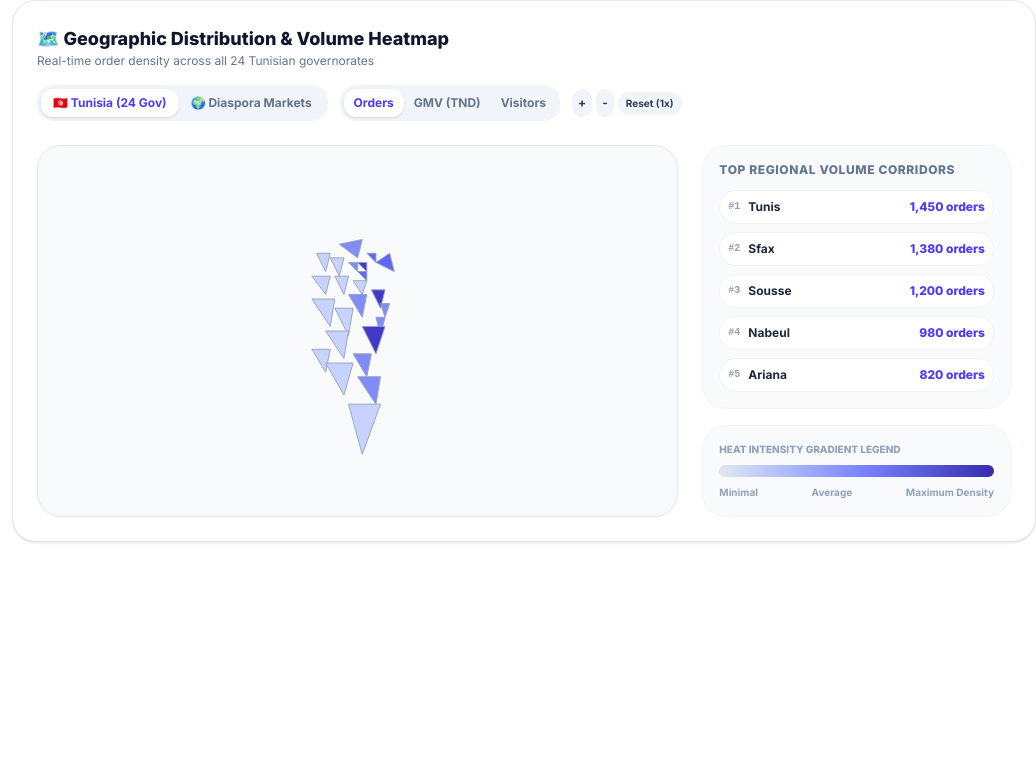
Scenario: Feature 2: Tunisia 24-Governorates & Diaspora Choropleth Heatmap (R1) › Tier 1: Core Functional Verification › T1.7: adjusts zoom level (+, -, Reset) without crashing
The width and height of the screenshot is (1036, 768).
Step 1. Click the button named "Zoom in" → (582, 103), box [572,89,592,117]
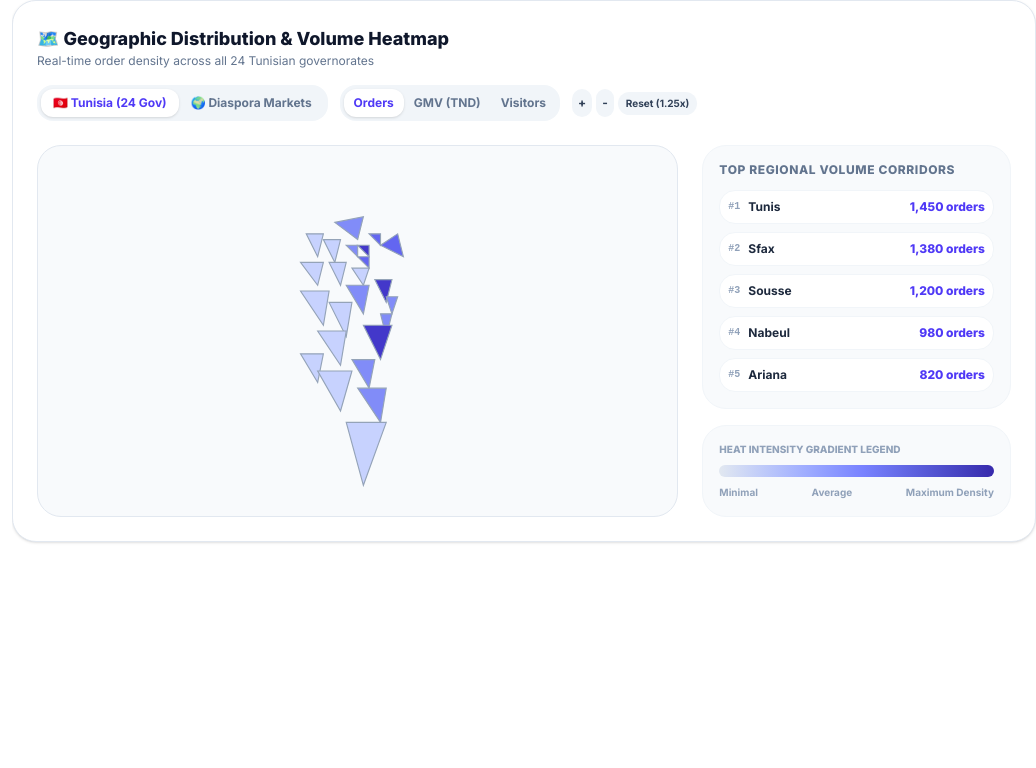
Now the button "Reset (1.25x)" is shown, box [618,92,697,114]
Step 2. Click the button named "Zoom out" → (605, 103), box [596,89,614,117]
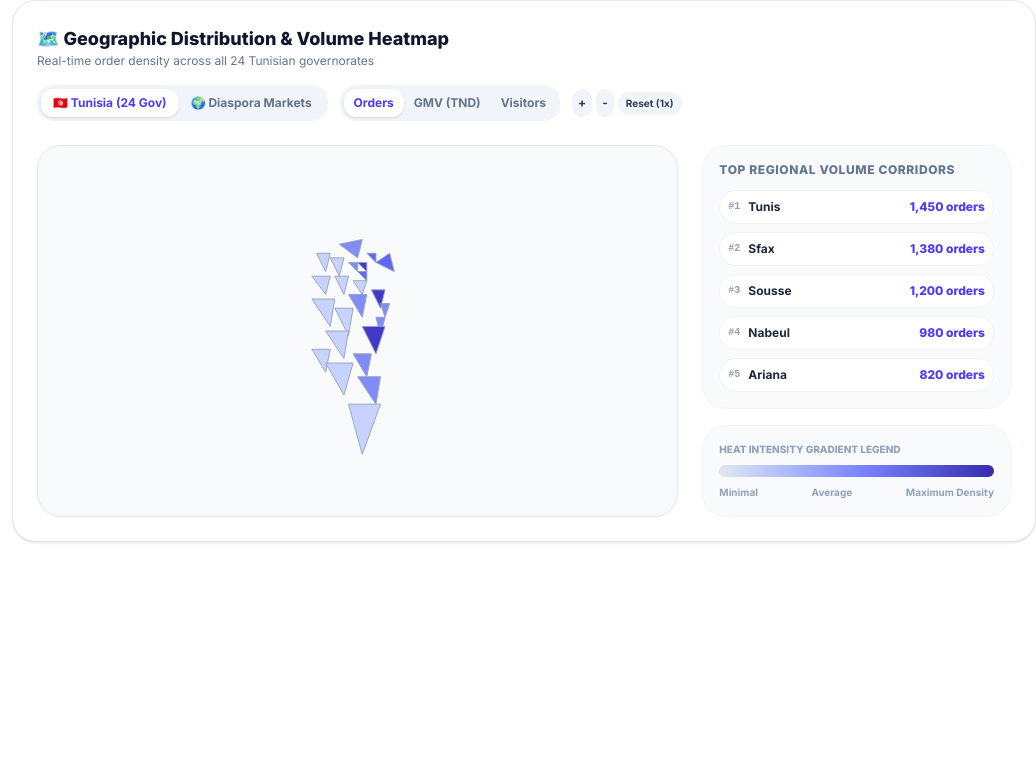
Now the button "Reset (1x)" is shown, box [618,92,682,114]
Step 3. Click the button named "Zoom in" → (582, 103), box [572,89,592,117]
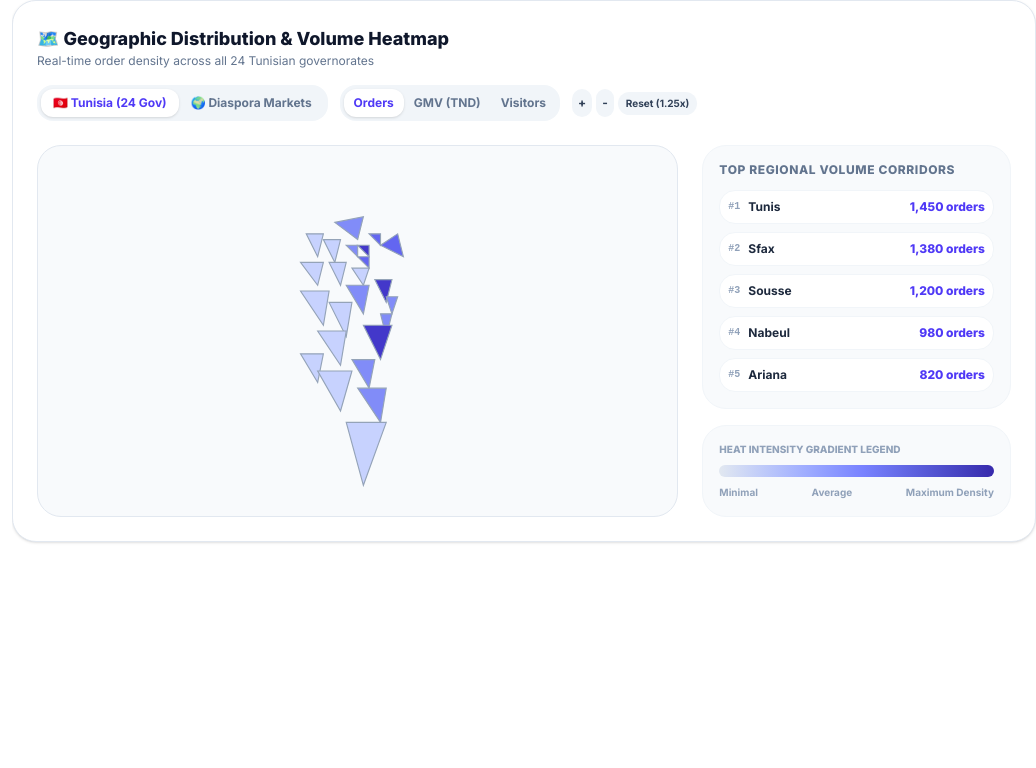
Step 4. Click the button named "Zoom in" → (582, 103), box [572,89,592,117]
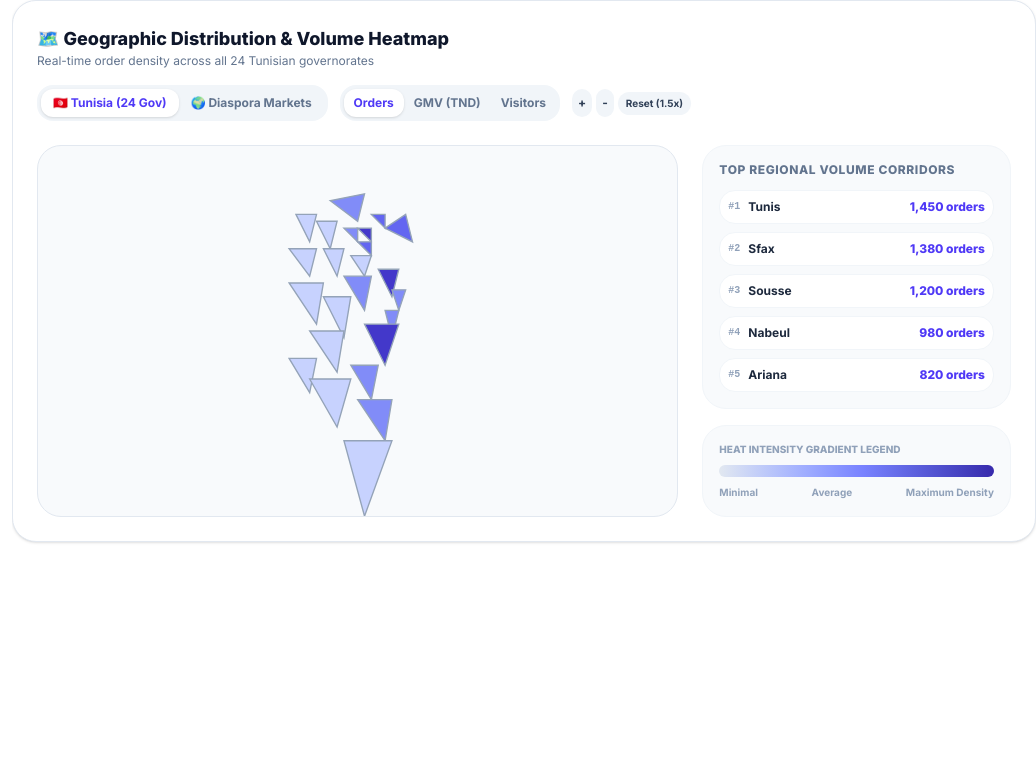
Now the button "Reset (1.5x)" is shown
Step 5. Click the button "Reset (1.5x)" → (654, 103), box [618,92,691,114]
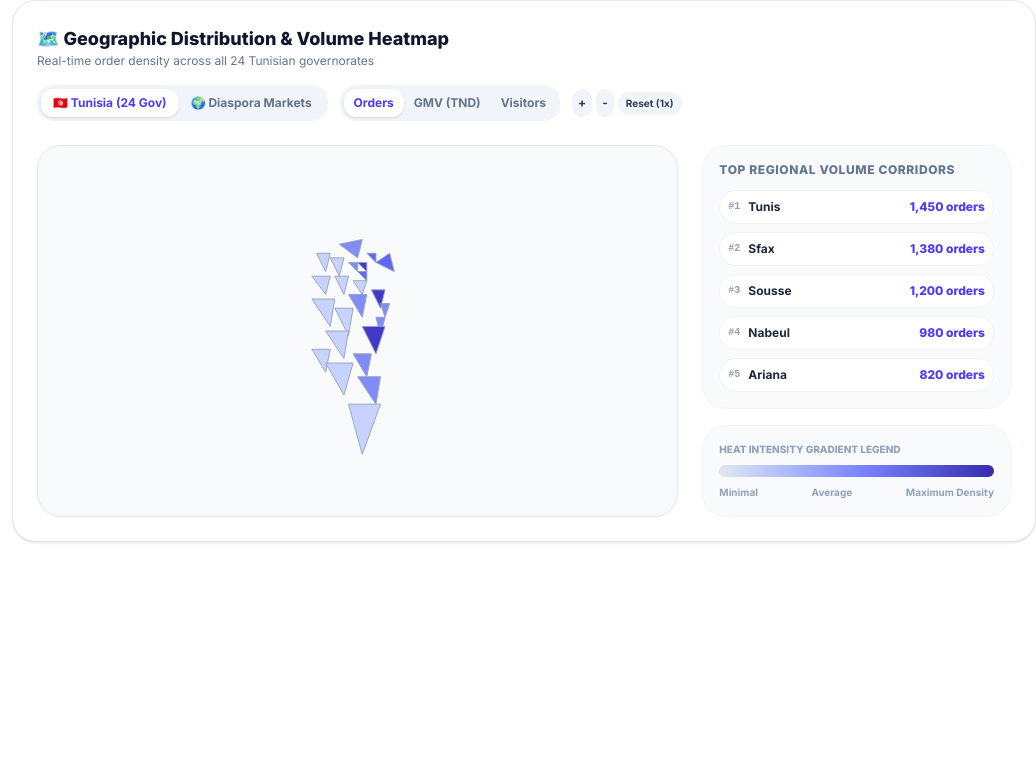
Now the button "Reset (1x)" is shown, box [618,92,682,114]
